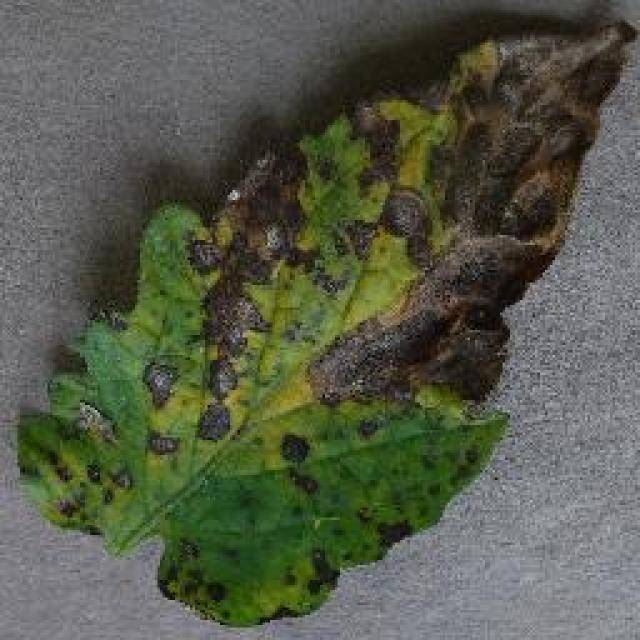Tomato Early blight leaf: (34, 26, 611, 612)
